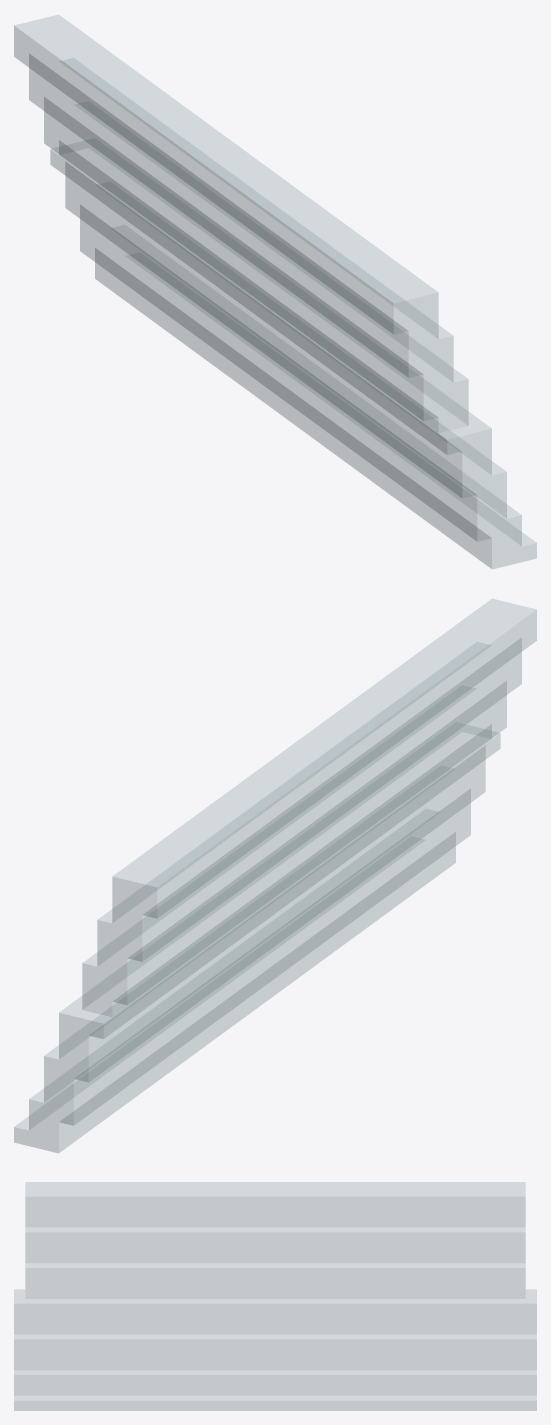
Rendered from classic_4x4_windscreen.glb.
The picture shows the model from 3 angles, top to bottom: view 1: azimuth 30°, elevation 25°; view 2: azimuth 150°, elevation 25°; view 3: azimuth 270°, elevation 25°; orthographic projection. The views are drawn at different scales.
Visible parts, largest first — view 1: body:compound; view 2: body:compound; view 3: body:compound.
Part boxes in pixels (box(x1,y1,x2,y2)): body:compound: box(14, 14, 536, 569); body:compound: box(14, 598, 536, 1153); body:compound: box(14, 1182, 536, 1410).
Size of the model in its own units: 0.2812 by 0.5625 by 1.44.
